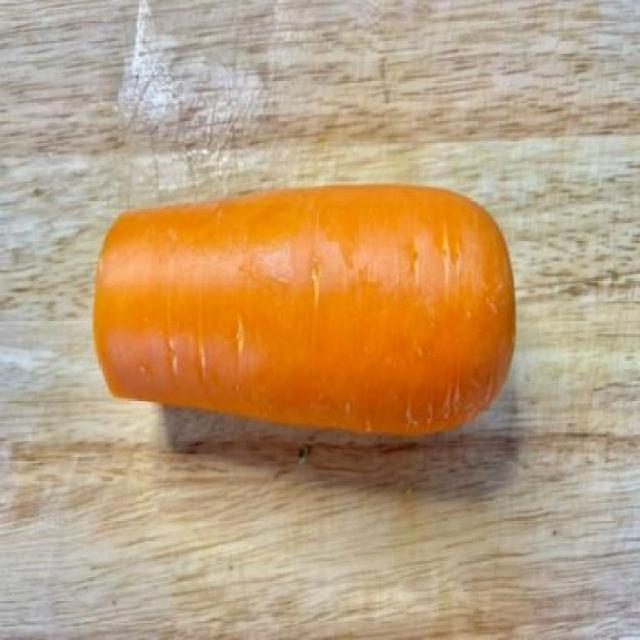Carrot: (94, 186, 515, 435)
